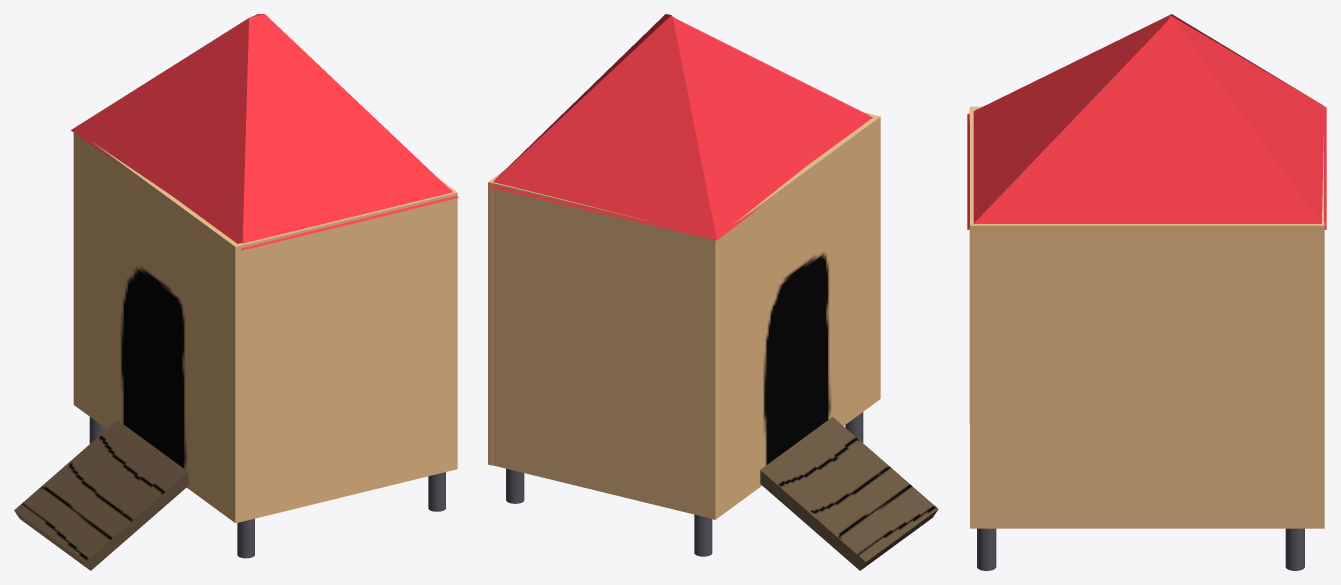
The model's file is kurnik.glb.
The picture shows the model from 3 angles, left to right: view 1: azimuth 30°, elevation 25°; view 2: azimuth 150°, elevation 25°; view 3: azimuth 270°, elevation 25°; orthographic projection. The views are drawn at different scales.
Visible parts, largest first — view 1: Cube.002, Cube.004, Cube, Cube.006, Cylinder, Cylinder.002; view 2: Cube.003, Cube, Cube.004, Cube.006, Cube.001, Cylinder.001, Cylinder.003; view 3: Cube.001, Cube.004, Cube.002, Cylinder.002, Cylinder.003.
Part boxes in pixels (box(x1,y1,x2,y2)): Cube.002: box(234, 192, 457, 523); Cube.004: box(70, 14, 458, 250); Cube: box(73, 133, 239, 522); Cube.006: box(14, 420, 188, 570); Cylinder: box(237, 518, 254, 558); Cylinder.002: box(428, 472, 445, 511); Cube.003: box(489, 180, 710, 518); Cube: box(710, 115, 880, 519); Cube.004: box(488, 14, 870, 240); Cube.006: box(760, 417, 938, 570); Cube.001: box(488, 169, 505, 465); Cylinder.001: box(694, 514, 712, 556); Cylinder.003: box(506, 468, 524, 503); Cube.001: box(970, 223, 1324, 528); Cube.004: box(967, 14, 1326, 229); Cube.002: box(969, 107, 975, 527); Cylinder.002: box(977, 528, 996, 570); Cylinder.003: box(1285, 528, 1304, 570).
Bounding box in the file's own units: 5.3 × 7.34 × 4.61.
11 materials, 11 textured.
